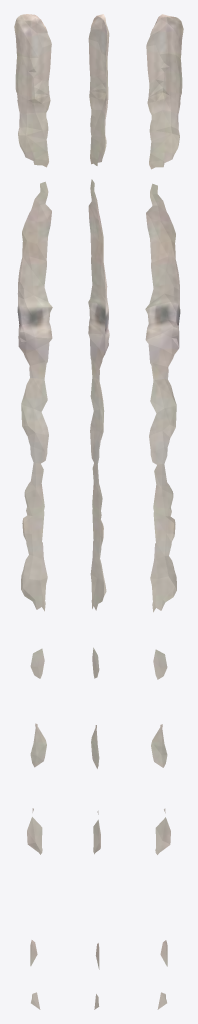
File: Tile_+001_+006_L22_00010000.glb
3 views of the same model, side by side, from view 1: azimuth 90°, elevation 25°; view 2: azimuth 210°, elevation 25°; view 3: azimuth 270°, elevation 25° (orthographic).
Visible parts, largest first — view 1: rtc; view 2: rtc; view 3: rtc.
Boxes of the visible parts, x1,y1,x2,y2 form: rtc: (14,14,52,1009); rtc: (88,14,109,1009); rtc: (145,14,183,1009).
Bounding box in the file's own units: 0.2603 × 26.43 × 0.9259.
Materials: 1 (1 with a texture image).
